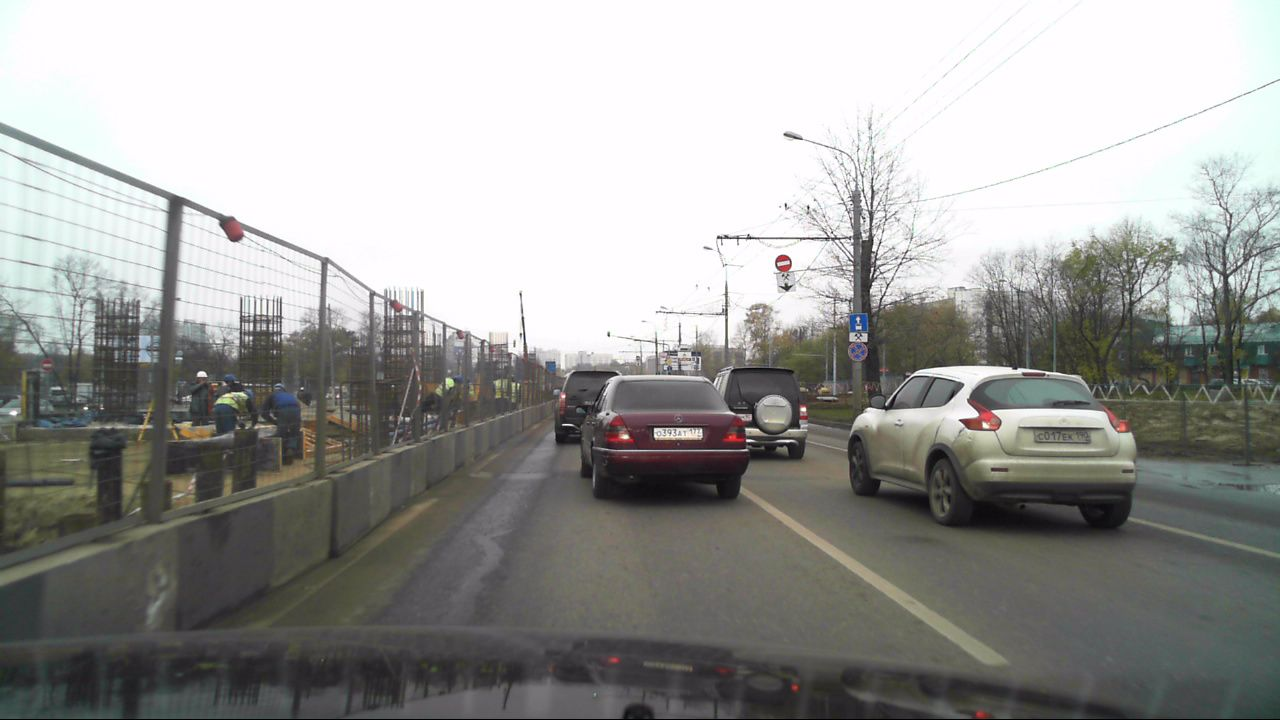No Parking: (848, 343, 867, 361)
